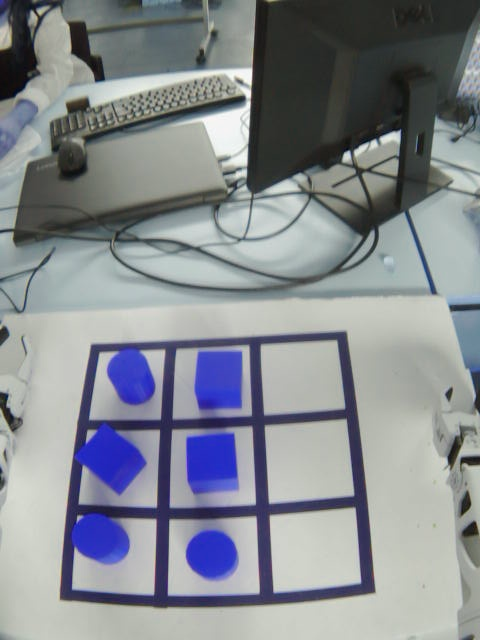cube: (70, 419, 155, 499), (175, 425, 250, 501), (184, 343, 255, 417)
cylinder: (66, 508, 137, 572), (100, 343, 164, 408), (179, 526, 246, 587)
empty: (257, 501, 372, 599), (259, 413, 360, 510), (255, 337, 350, 421)
